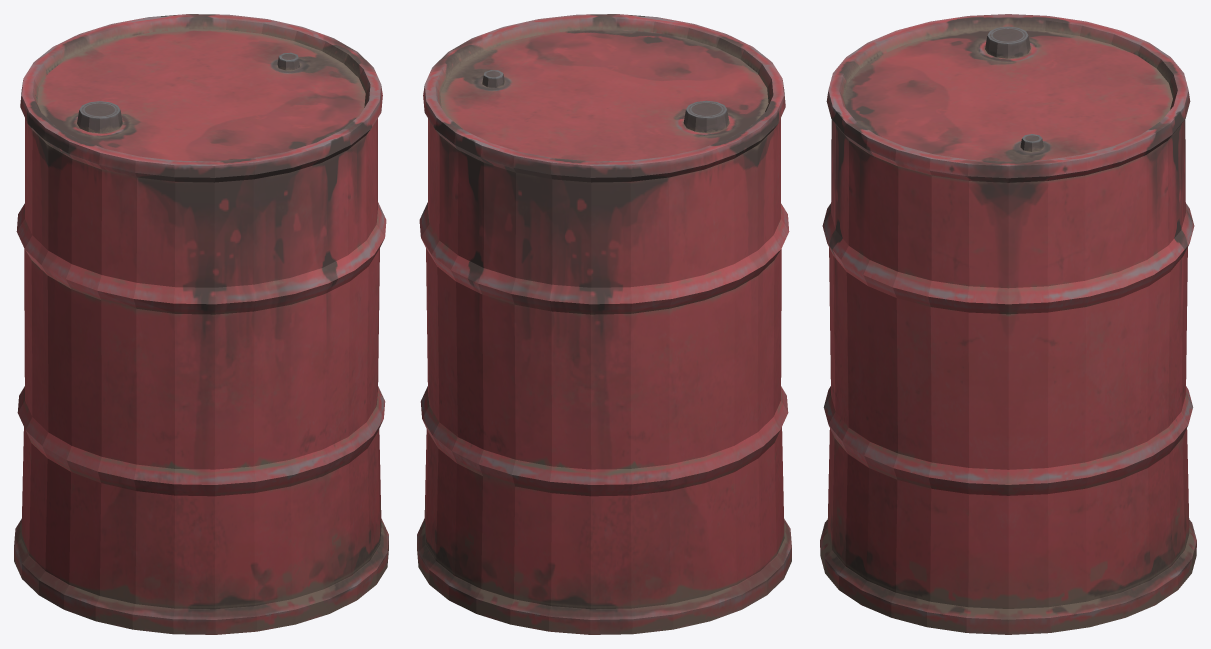
Rendered from P_OilBarrel_004_S1_M01.obj.
The picture shows the model from 3 angles, left to right: view 1: azimuth 30°, elevation 25°; view 2: azimuth 150°, elevation 25°; view 3: azimuth 270°, elevation 25°; orthographic projection.
Size of the model in its own units: 0.723 by 1 by 0.7261.
Materials: 1 (1 with a texture image).
